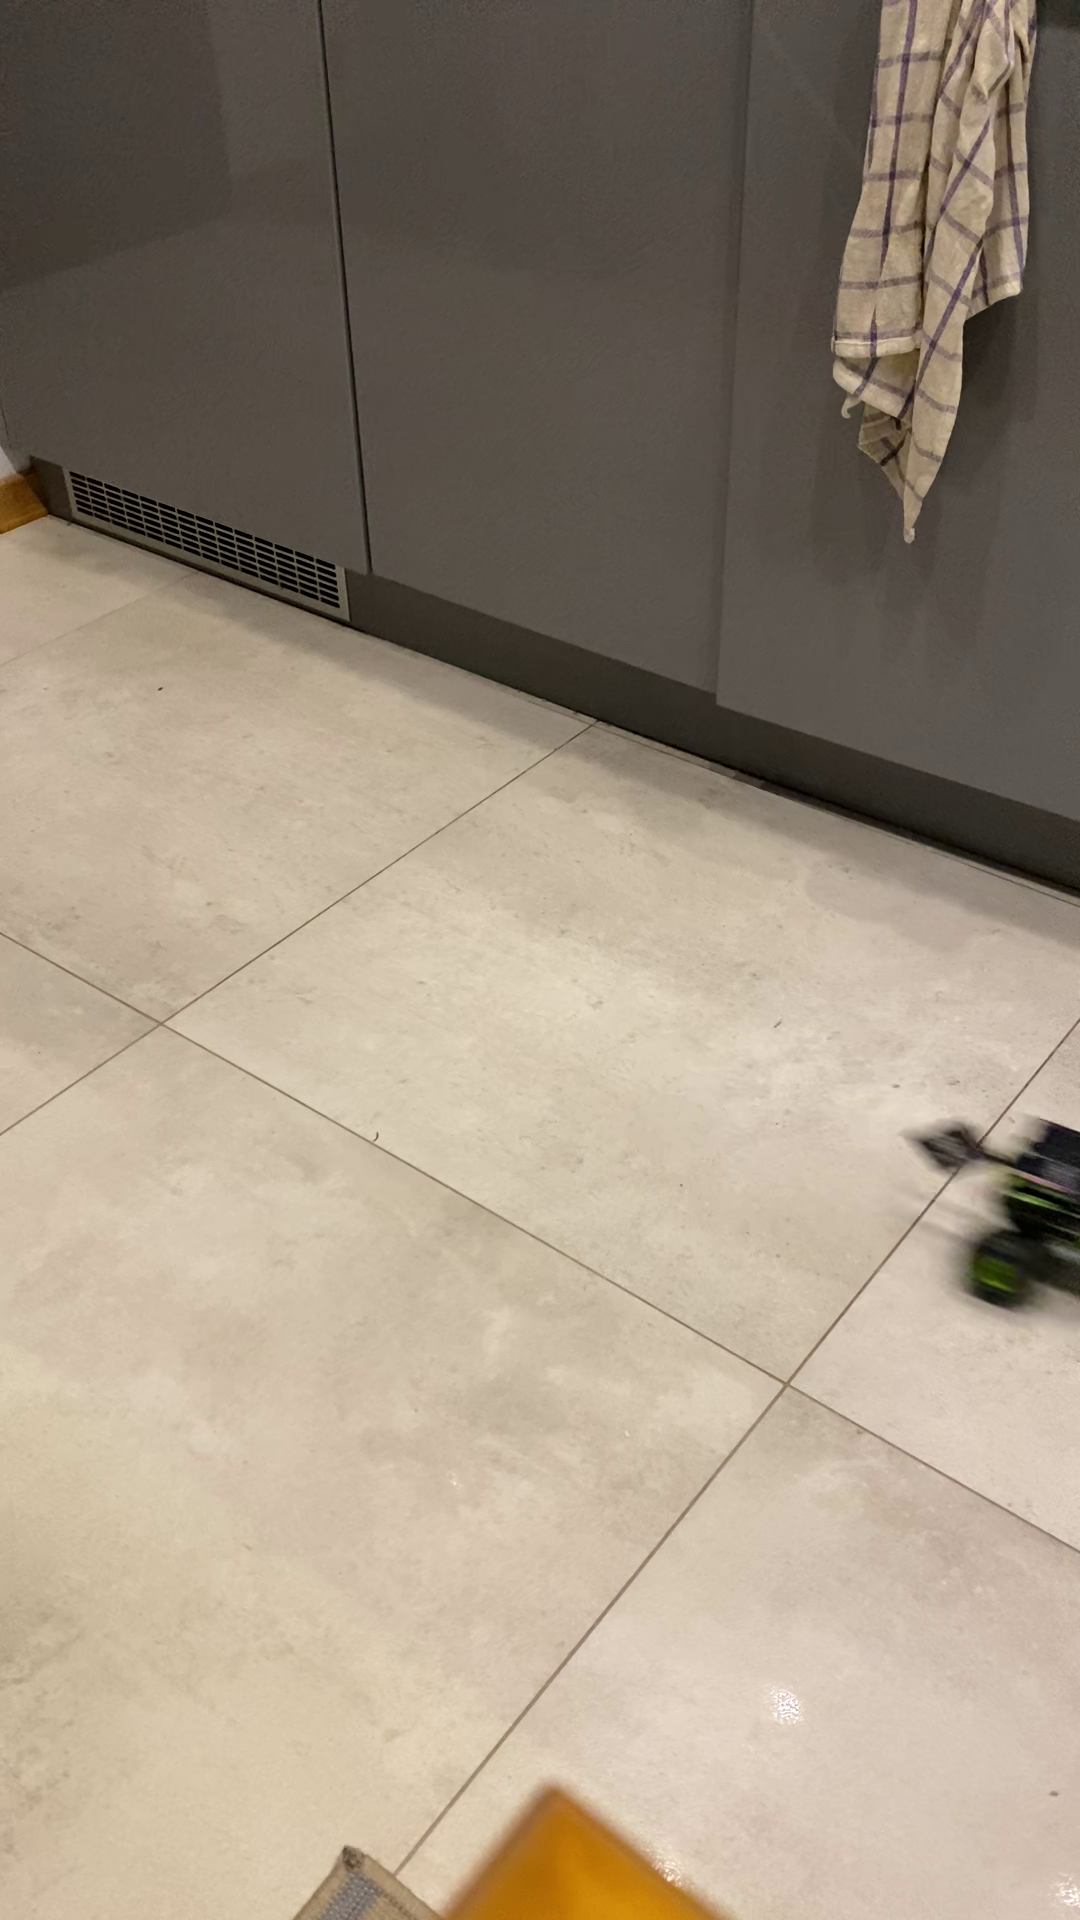car: (963, 1124, 1080, 1309)
